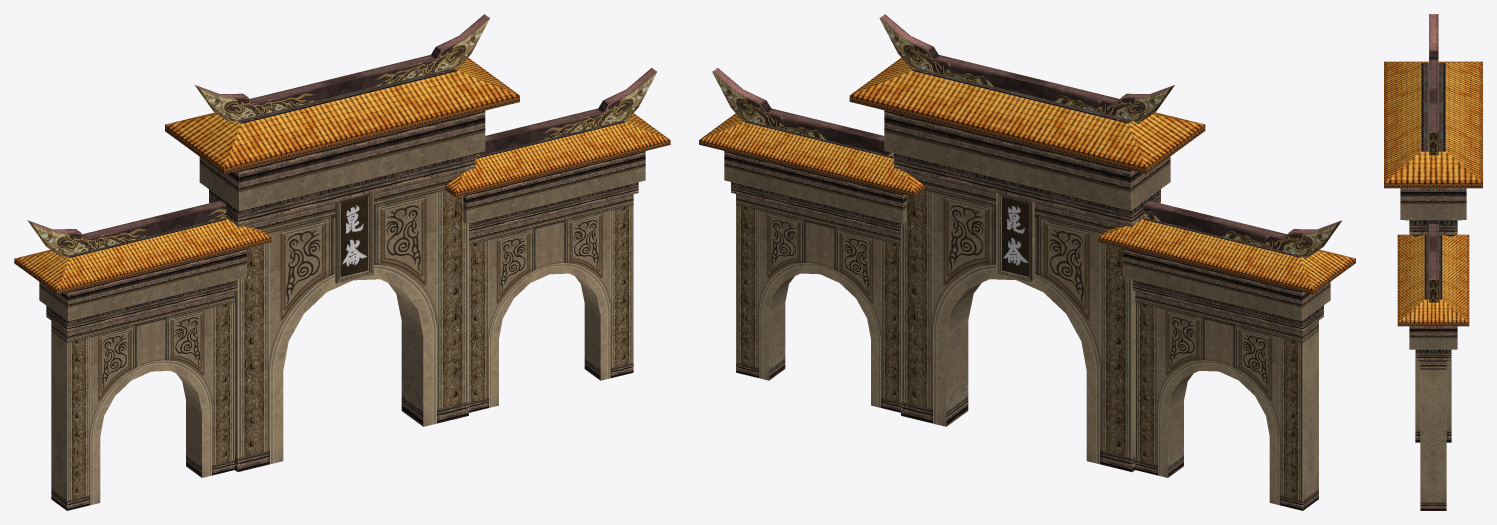
The model's file is Kunlun_gate01.FBX.
3 views of the same model, side by side, from view 1: azimuth 30°, elevation 25°; view 2: azimuth 150°, elevation 25°; view 3: azimuth 270°, elevation 25° (orthographic). The views are drawn at different scales.
Parts seen in each view (by area): view 1: Box005; view 2: Box005; view 3: Box005.
Boxes of the visible parts, box(x1,y1,x2,y2) form: Box005: box(14, 14, 670, 510); Box005: box(699, 14, 1355, 510); Box005: box(1384, 14, 1482, 510).
Bounding box in the file's own units: 2074 × 1220 × 339.
Materials: 2 (2 with a texture image).
